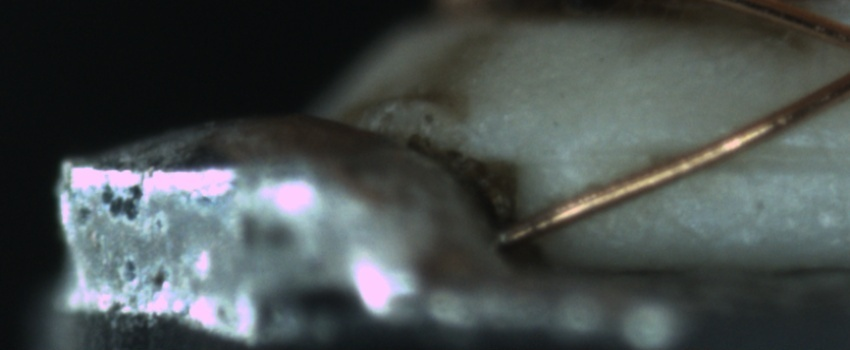DL: (579, 119, 844, 192)
